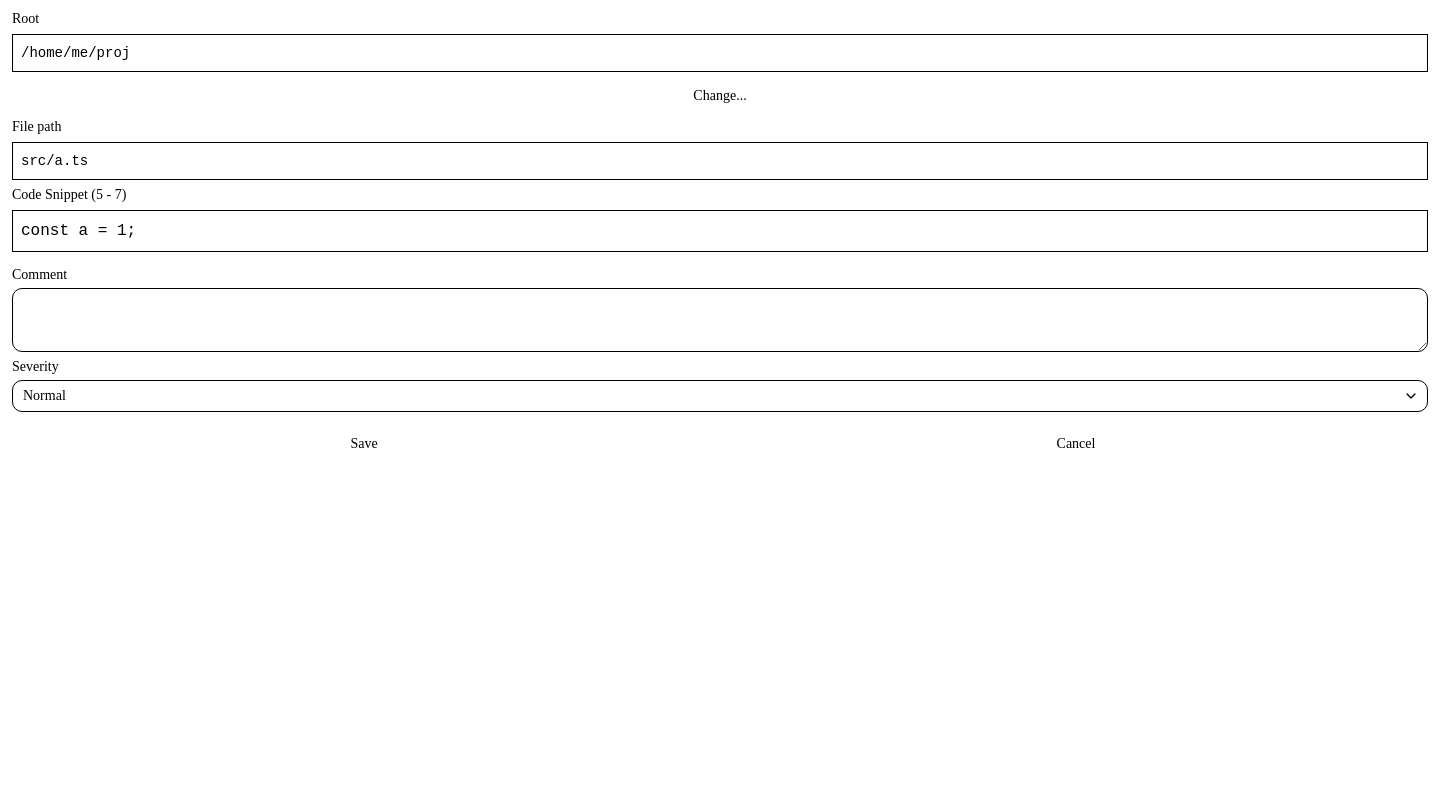
Scenario: App › posts cancel and returns to blank on cancel
The image size is (1440, 810).
Click the button "Cancel" at x=1076, y=444, box [724,428,1428,460]
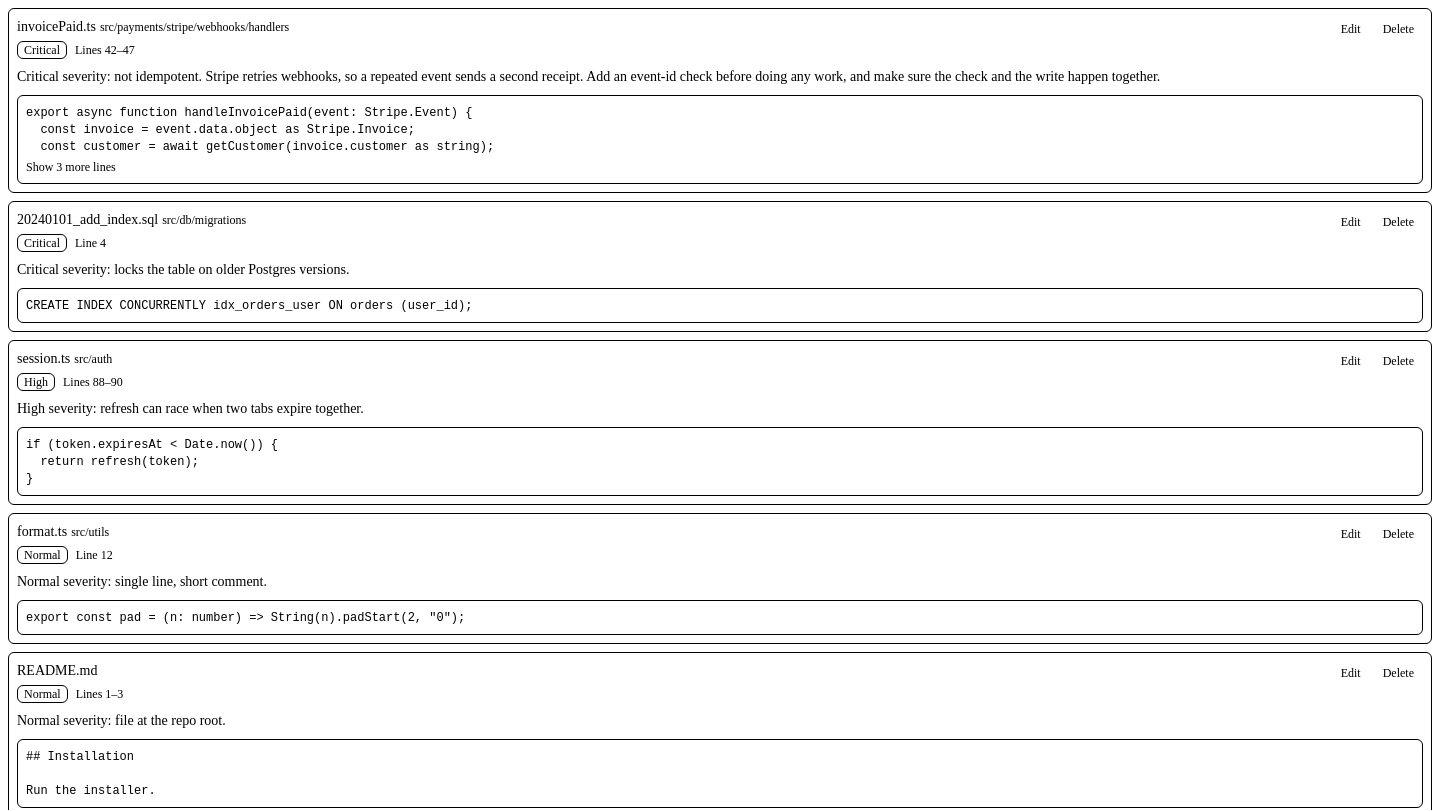
Expected: the button "Save" is gone
